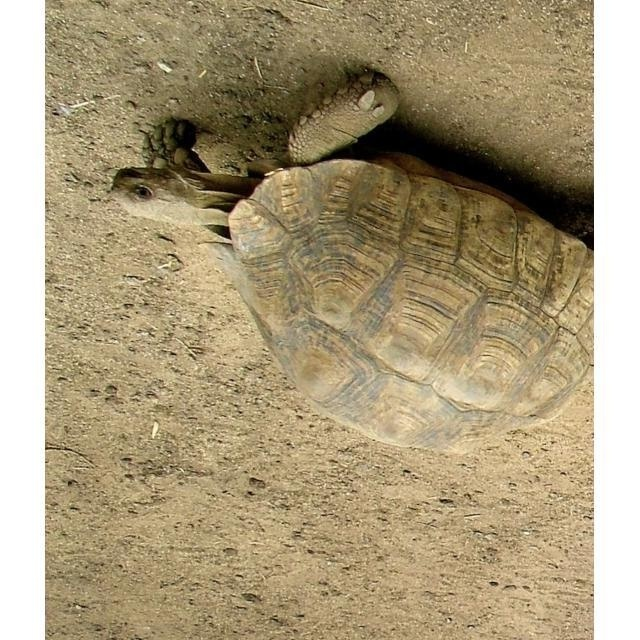turtle: (109, 69, 592, 455)
